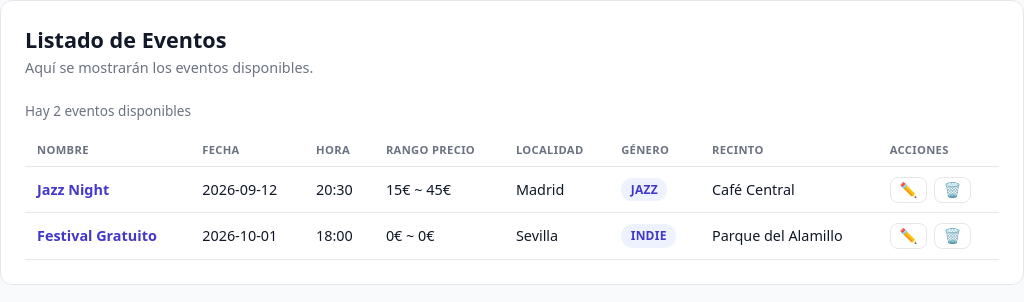
Scenario: EventList › delete (inline confirmation, no browser dialogs) › restores the normal actions when the confirmation is declined
Click the button named "Eliminar Jazz Night". click: x=952, y=190
box: [934,177,971,203]
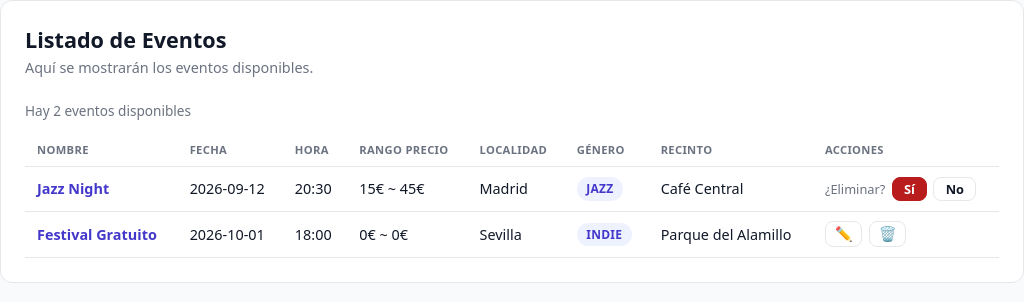
Click the button with aria-label "Cancelar eliminación de Jazz Night". click: x=955, y=189
box: [934,177,976,201]
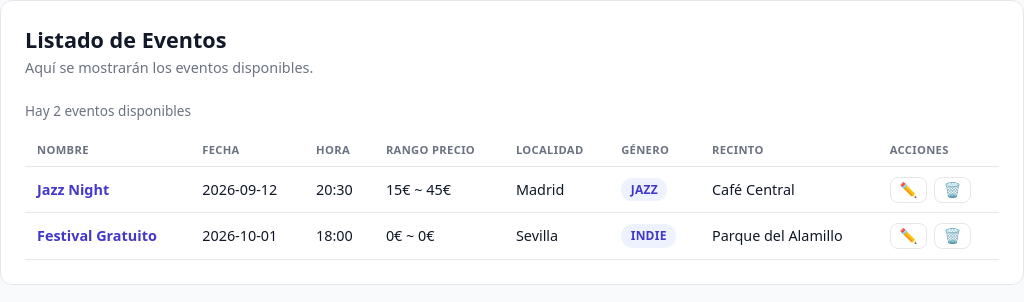
Expected: the link "Jazz Night" is shown, [37,180,109,199]
Expected: the text "¿Eliminar?" is gone
Expected: the button named "Eliminar Jazz Night" is shown, [934,177,971,203]
